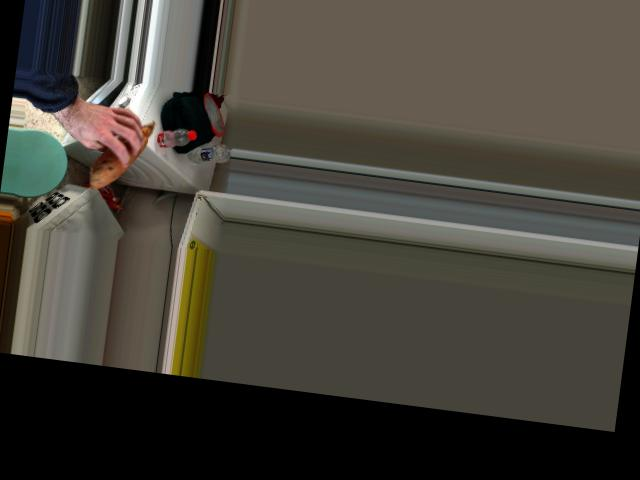sweet_potato: (90, 108, 153, 189)
